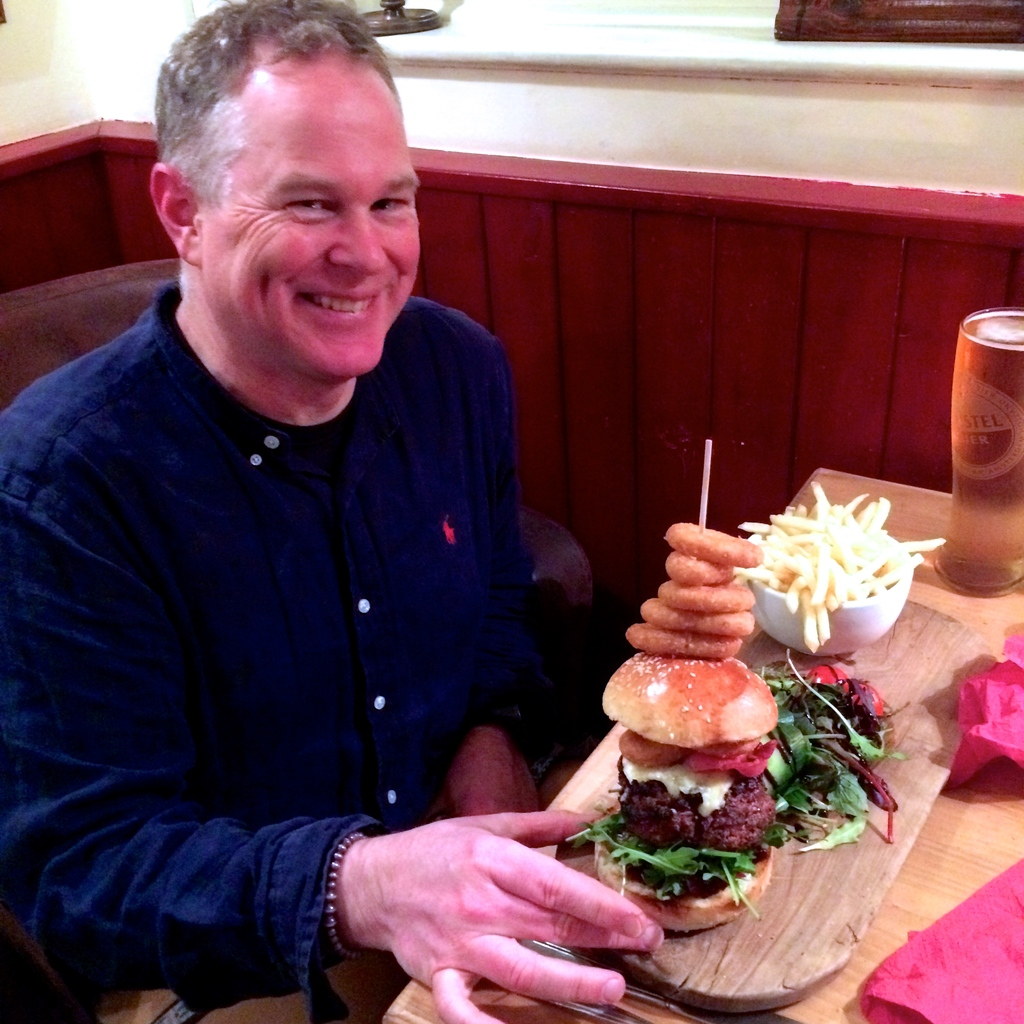Hamburger: (560, 527, 780, 938)
